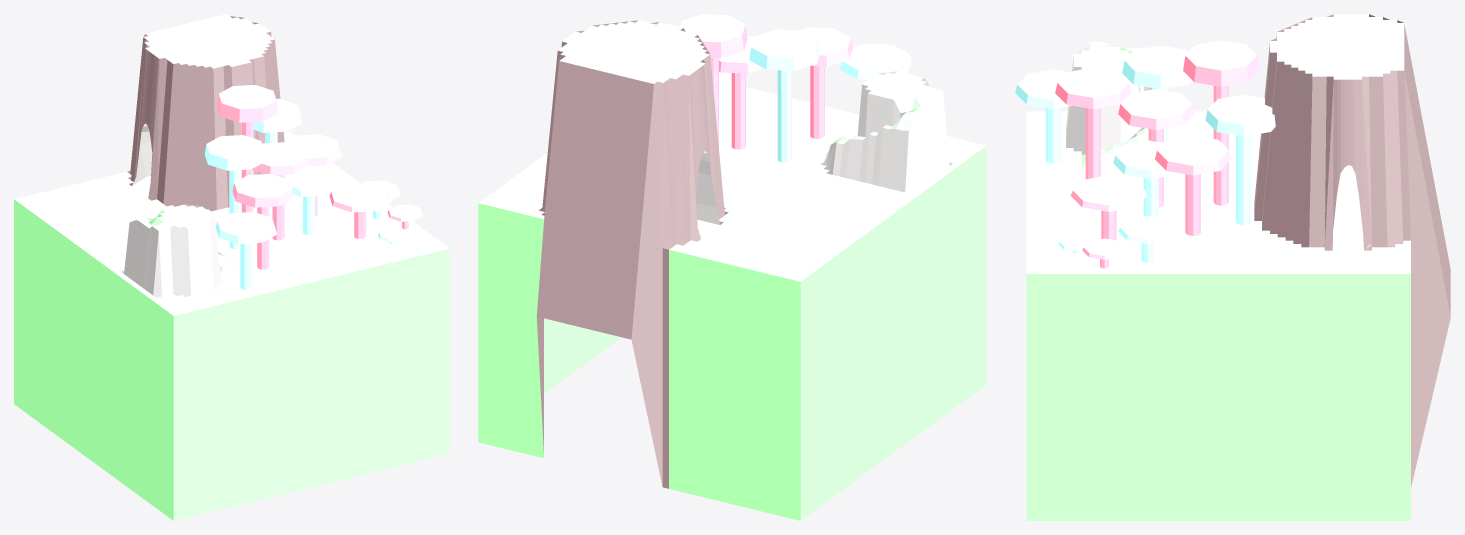
File: cave_and_platforms.gltf
The picture shows the model from 3 angles, left to right: view 1: azimuth 30°, elevation 25°; view 2: azimuth 150°, elevation 25°; view 3: azimuth 270°, elevation 25°; orthographic projection. The views are drawn at different scales.
Visible parts, largest first — view 1: land, m9, m8, m6, m7, m10, mushroom, m1, m5, m11, m3; view 2: land, m8, m9, m7, m10, m6; view 3: land, m9, m11, m7, m5, m10, mushroom, m8, m6, m1, m2, m3.
Boxes of the visible parts, box(x1,y1,x2,y2) form: land: box(14, 14, 449, 520); m9: box(217, 85, 278, 212); m8: box(204, 135, 265, 249); m6: box(215, 212, 276, 289); m7: box(232, 174, 293, 269); m10: box(251, 142, 308, 240); mushroom: box(329, 183, 390, 238); m1: box(284, 166, 339, 234); m5: box(284, 134, 341, 216); m11: box(253, 98, 302, 143); m3: box(387, 204, 423, 229); land: box(478, 20, 986, 520); m8: box(749, 29, 820, 162); m9: box(680, 14, 747, 147); m7: box(798, 27, 853, 138); m10: box(719, 36, 764, 149); m6: box(840, 43, 911, 79); land: box(1026, 14, 1450, 520); m9: box(1183, 40, 1259, 205); m11: box(1205, 94, 1275, 225); m7: box(1055, 67, 1131, 179); m5: box(1155, 135, 1231, 235); m10: box(1118, 89, 1194, 207); mushroom: box(1070, 175, 1146, 240); m8: box(1122, 45, 1191, 182); m6: box(1015, 69, 1071, 163); m1: box(1113, 140, 1179, 217); m2: box(1118, 215, 1176, 263); m3: box(1082, 238, 1126, 268).
Size of the model in its own units: 50.74 by 59.01 by 56.67.
